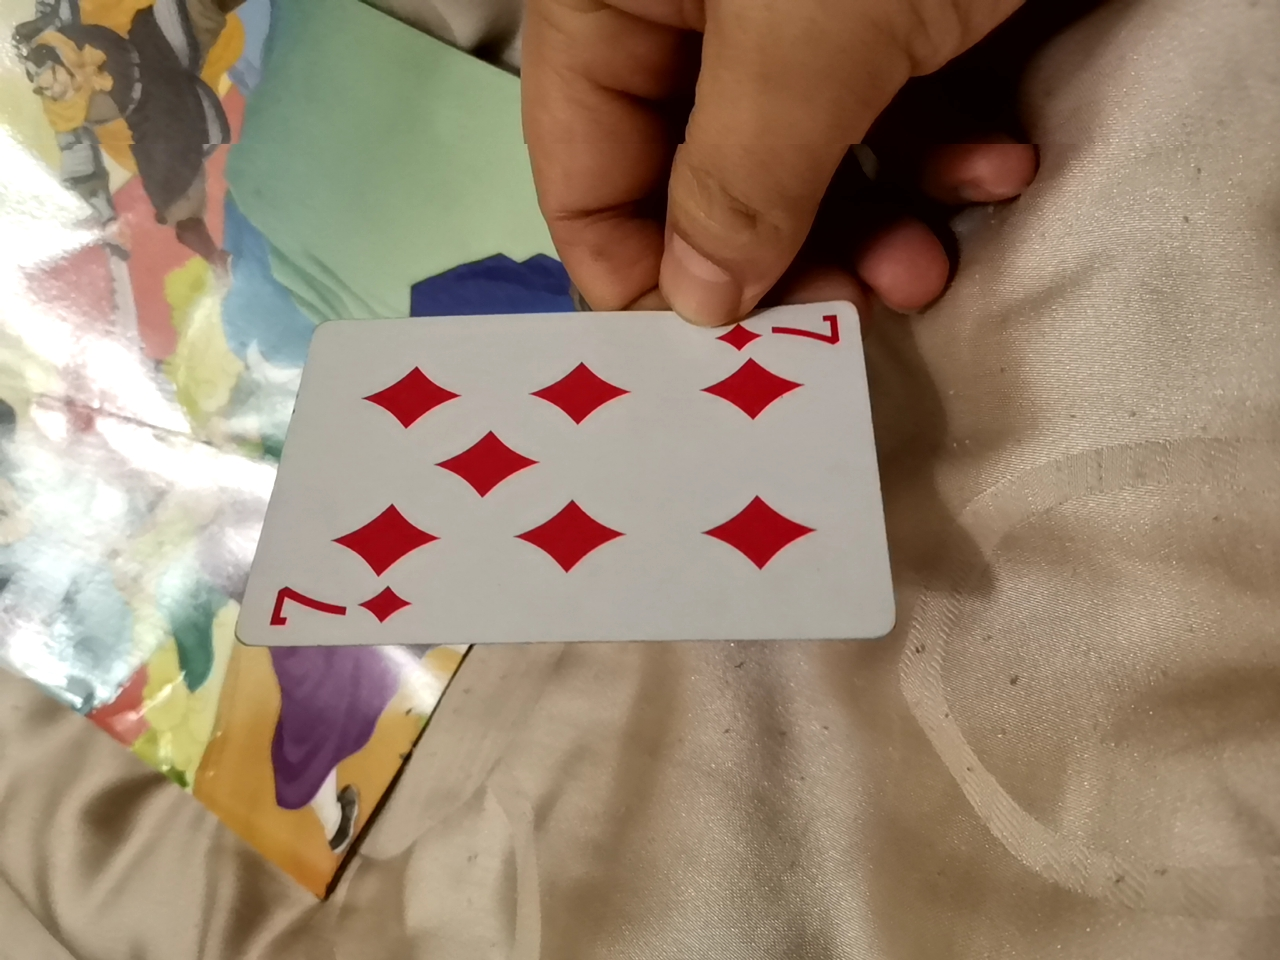fk 7: (304, 320, 941, 674)
